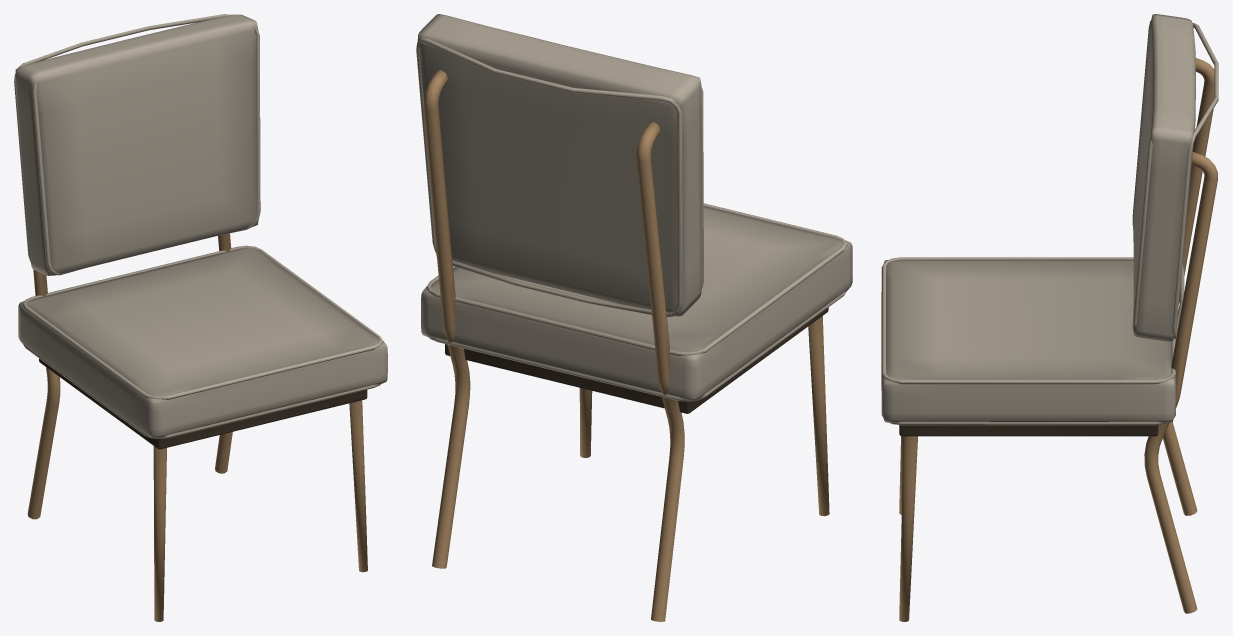
Rendered from dining_chair.gltf.
3 renders of one model, left to right at view 1: azimuth 30°, elevation 25°; view 2: azimuth 150°, elevation 25°; view 3: azimuth 270°, elevation 25°, orthographic. The views are drawn at different scales.
Visible parts, largest first — view 1: DiningChair_Back, DiningChair_Seat, DiningChair_LegsFront, DiningChair_Seat_PipingTop, DiningChair_Rail, DiningChair_LegRear_L, DiningChair_Back_PipingFront, DiningChair_Back_PipingRear, DiningChair_Seat_PipingBottom, DiningChair_LegRear_R; view 2: DiningChair_Back, DiningChair_Seat, DiningChair_LegRear_R, DiningChair_LegRear_L, DiningChair_Back_PipingRear, DiningChair_LegsFront, DiningChair_Rail, DiningChair_Seat_PipingTop, DiningChair_Seat_PipingBottom; view 3: DiningChair_Seat, DiningChair_Back, DiningChair_LegRear_R, DiningChair_LegRear_L, DiningChair_Seat_PipingTop, DiningChair_Rail, DiningChair_LegsFront, DiningChair_Back_PipingRear, DiningChair_Back_PipingFront, DiningChair_Seat_PipingBottom.
Part boxes in pixels (bbox=[...]): DiningChair_Back: bbox=[15, 14, 258, 275]; DiningChair_Seat: bbox=[18, 247, 387, 438]; DiningChair_LegsFront: bbox=[153, 400, 367, 621]; DiningChair_Seat_PipingTop: bbox=[22, 245, 383, 399]; DiningChair_Rail: bbox=[39, 358, 367, 449]; DiningChair_LegRear_L: bbox=[27, 269, 60, 519]; DiningChair_Back_PipingFront: bbox=[32, 22, 260, 275]; DiningChair_Back_PipingRear: bbox=[14, 14, 230, 261]; DiningChair_Seat_PipingBottom: bbox=[23, 344, 380, 438]; DiningChair_LegRear_R: bbox=[215, 233, 232, 473]; DiningChair_Back: bbox=[417, 14, 701, 316]; DiningChair_Seat: bbox=[421, 206, 852, 401]; DiningChair_LegRear_R: bbox=[424, 70, 470, 568]; DiningChair_LegRear_L: bbox=[636, 122, 684, 621]; DiningChair_Back_PipingRear: bbox=[416, 37, 682, 317]; DiningChair_LegsFront: bbox=[579, 316, 829, 516]; DiningChair_Rail: bbox=[445, 307, 828, 413]; DiningChair_Seat_PipingTop: bbox=[426, 203, 847, 355]; DiningChair_Seat_PipingBottom: bbox=[429, 291, 846, 401]; DiningChair_Seat: bbox=[881, 259, 1175, 423]; DiningChair_Back: bbox=[1133, 14, 1195, 341]; DiningChair_LegRear_R: bbox=[1144, 152, 1217, 613]; DiningChair_LegRear_L: bbox=[1162, 58, 1214, 515]; DiningChair_Seat_PipingTop: bbox=[881, 257, 1175, 384]; DiningChair_Rail: bbox=[899, 425, 1158, 436]; DiningChair_LegsFront: bbox=[899, 436, 917, 621]; DiningChair_Back_PipingRear: bbox=[1172, 23, 1218, 338]; DiningChair_Back_PipingFront: bbox=[1132, 19, 1160, 332]; DiningChair_Seat_PipingBottom: bbox=[881, 406, 1175, 425].
Size of the model in its own units: 0.5009 by 0.9291 by 0.573.
3 materials, 1 textured.
